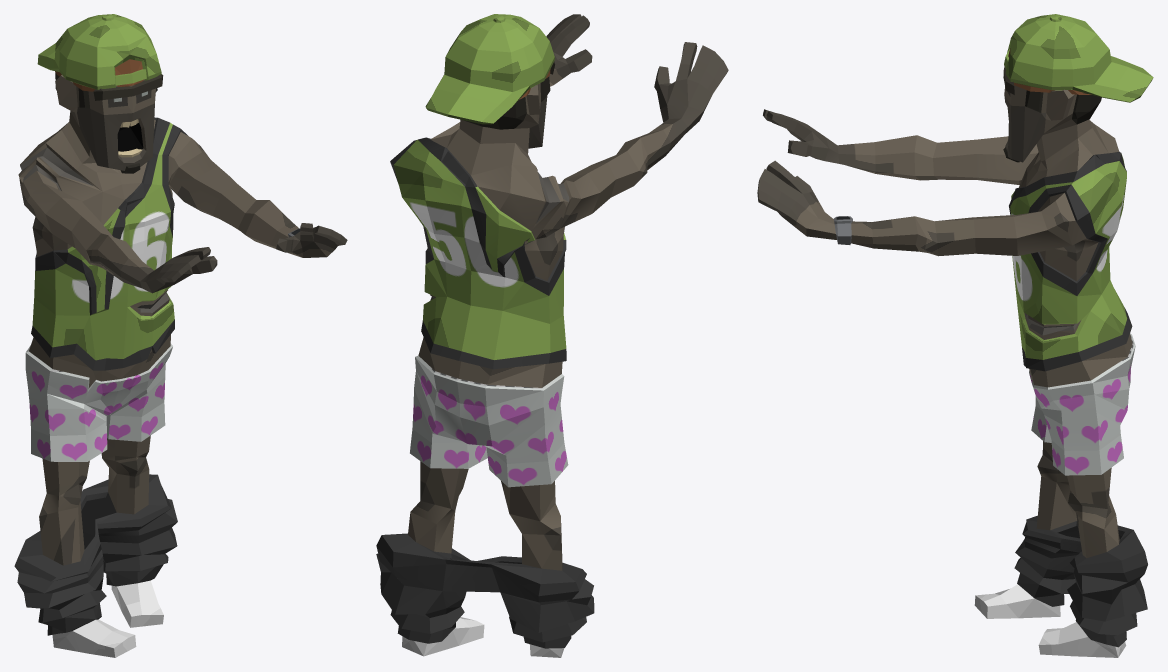
The model's file is 3.hotspot.ghost.glb.
3 views of the same model, side by side, from view 1: azimuth 30°, elevation 25°; view 2: azimuth 150°, elevation 25°; view 3: azimuth 270°, elevation 25° (orthographic). The views are drawn at different scales.
Parts seen in each view (by area): view 1: Zombie Pants; view 2: Zombie Pants; view 3: Zombie Pants.
Boxes of the visible parts, x1,y1,x2,y2 form: Zombie Pants: (14,14,347,657); Zombie Pants: (376,14,728,657); Zombie Pants: (757,14,1153,657).
Size of the model in its own units: 0.6101 by 1.86 by 1.09.
1 material, 1 textured.
